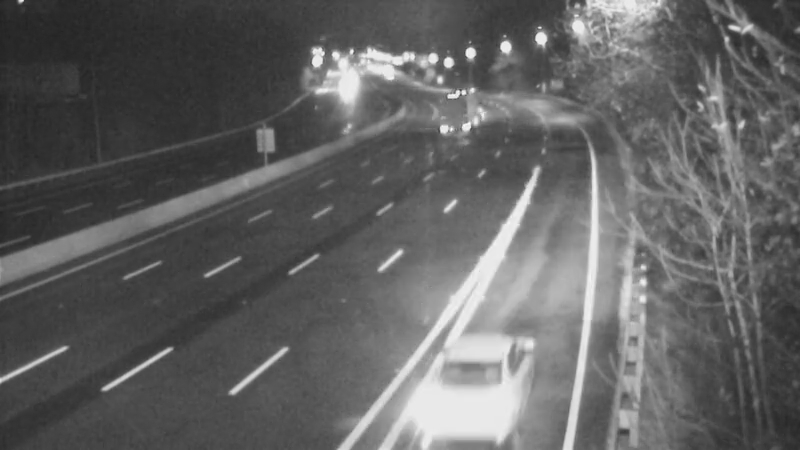vehicle: (415, 332, 525, 442), (427, 72, 477, 122), (324, 63, 374, 113)
